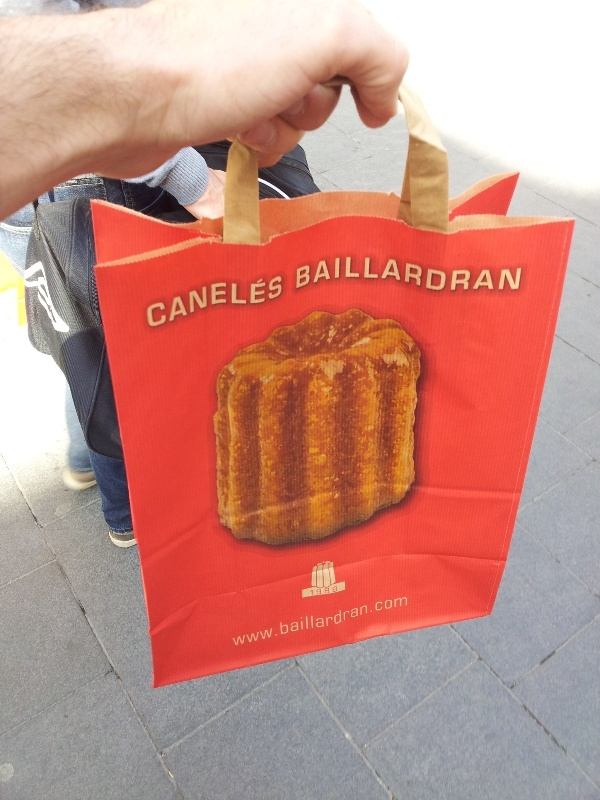text: (145, 270, 160, 329), (161, 270, 176, 329), (177, 270, 192, 329), (193, 270, 208, 329), (209, 270, 224, 329), (225, 270, 240, 329), (241, 270, 256, 329), (257, 270, 272, 329), (241, 592, 256, 647), (257, 592, 272, 647), (273, 592, 288, 647), (289, 592, 304, 647), (305, 592, 320, 647), (321, 592, 336, 647), (337, 592, 352, 647), (353, 592, 368, 647), (369, 592, 384, 647), (385, 592, 400, 647), (273, 270, 286, 329), (305, 256, 320, 293), (321, 256, 336, 293), (337, 256, 352, 293), (353, 256, 368, 293), (369, 256, 384, 293), (385, 256, 400, 293), (401, 256, 416, 293), (417, 256, 432, 293), (433, 256, 448, 293), (449, 256, 464, 293), (465, 256, 480, 293), (481, 256, 496, 293), (497, 256, 512, 293), (401, 592, 411, 647), (231, 592, 240, 647), (294, 256, 304, 293), (513, 256, 523, 293), (321, 585, 336, 597), (310, 585, 320, 597), (337, 585, 339, 597)
